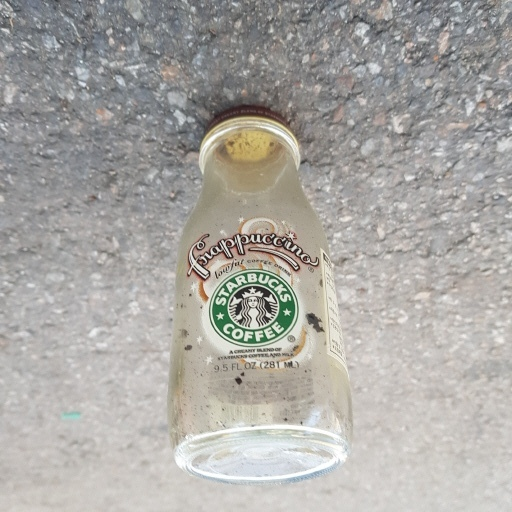Glass_4: (161, 109, 349, 481)
